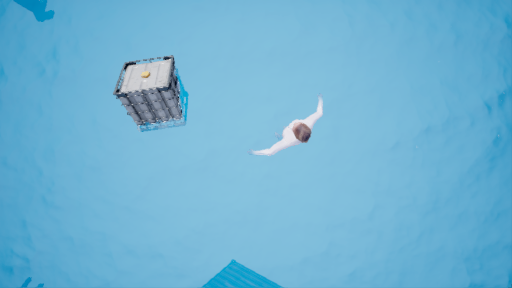person: (259, 93, 329, 169)
